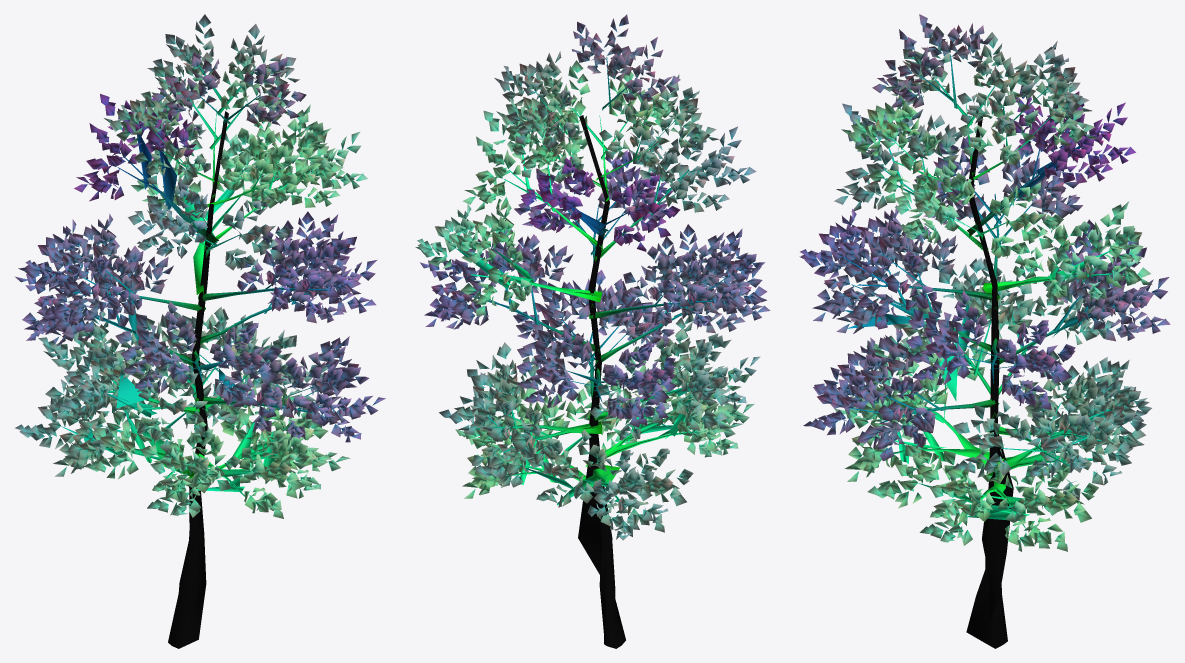
File: maple-sm_stylized_tree_maple_04.glb
3 renders of one model, left to right at view 1: azimuth 30°, elevation 25°; view 2: azimuth 150°, elevation 25°; view 3: azimuth 270°, elevation 25°, orthographic. The views are drawn at different scales.
Parts seen in each view (by area): view 1: SM_Stylized_Tree_Maple_04; view 2: SM_Stylized_Tree_Maple_04; view 3: SM_Stylized_Tree_Maple_04.
Boxes of the visible parts, <box> form: SM_Stylized_Tree_Maple_04: <box>15,14,385,648</box>; SM_Stylized_Tree_Maple_04: <box>415,14,770,648</box>; SM_Stylized_Tree_Maple_04: <box>799,14,1170,648</box>.
Size of the model in its own units: 405 by 709 by 378.
